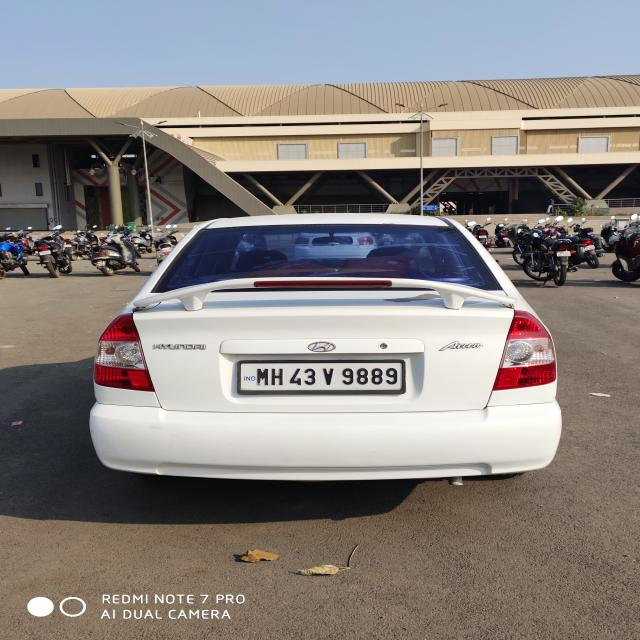Number-Plate: (236, 360, 404, 392)
